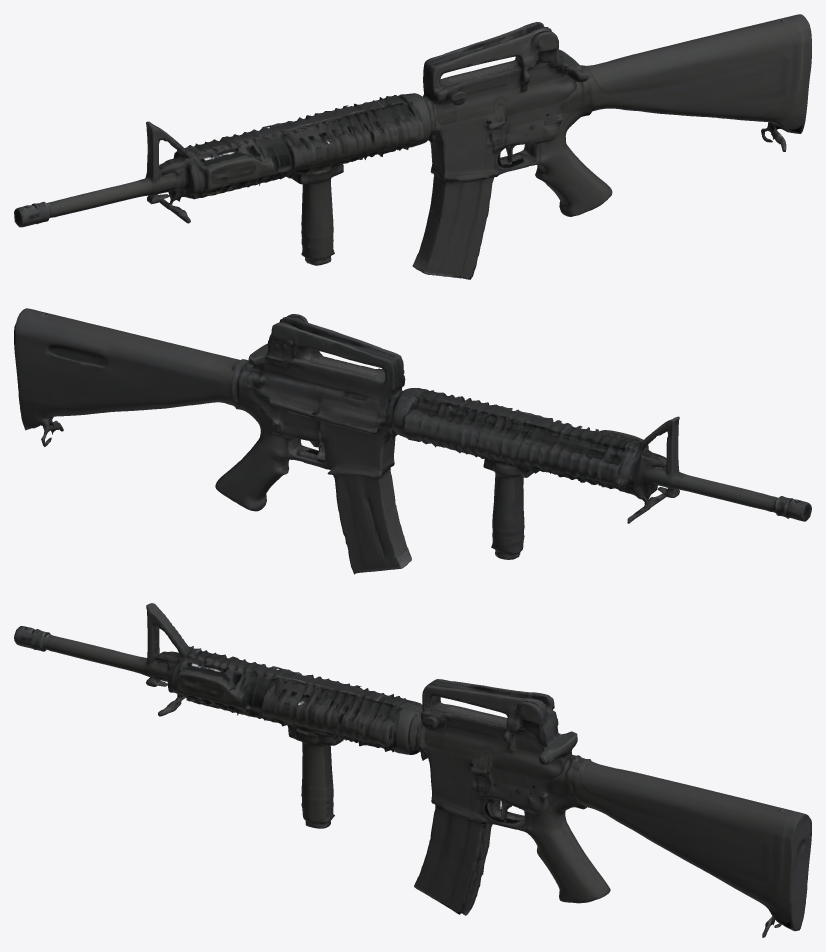
3 renders of one model, top to bottom at view 1: azimuth 30°, elevation 25°; view 2: azimuth 150°, elevation 25°; view 3: azimuth 330°, elevation 25°, orthographic.
Bounding box in the file's own units: 2 × 0.571 × 0.1973.
1 material, 1 textured.
